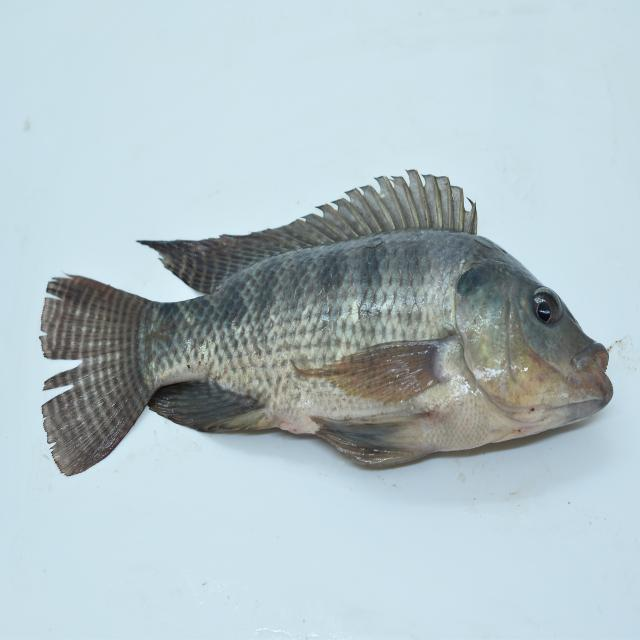Healthy Fish: (35, 168, 622, 482)
